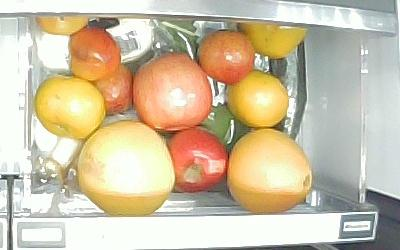apple: (130, 51, 214, 131), (165, 125, 231, 194)
grapefruit: (77, 119, 176, 218), (227, 127, 312, 214)
persimmon: (35, 76, 106, 138), (226, 69, 289, 128), (237, 20, 310, 59)
prune: (196, 29, 255, 85), (69, 26, 122, 81), (96, 65, 135, 114)
